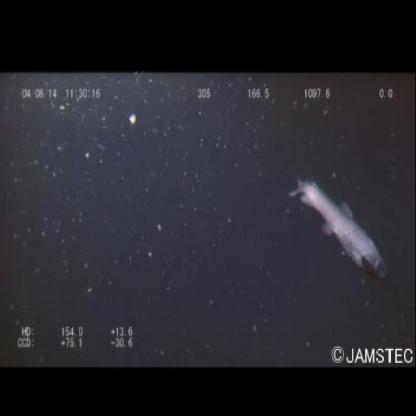Bio: (286, 176, 391, 284)
